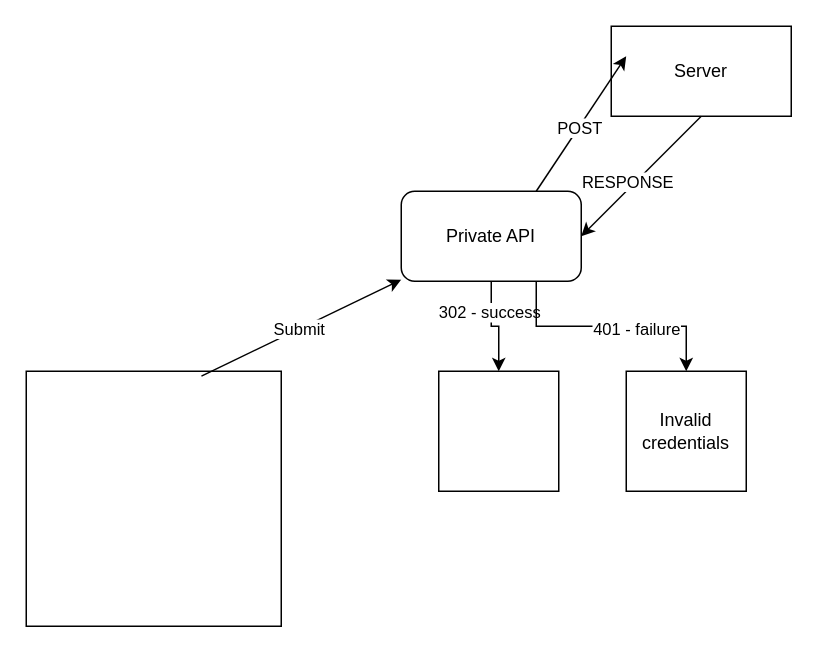
Some shapes in this 818 by 653 pixel diagram are drawn without their labels. Here are the shapes that lost their labels. From the top down, the centre of each, then its label:
point 498,430: users list
point 153,498: Login required(username, password)
